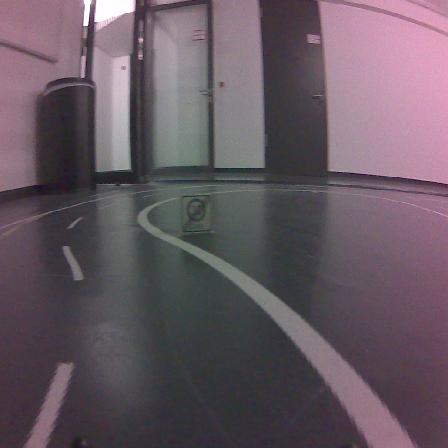30_ZONE_END: (180, 195, 212, 232)
